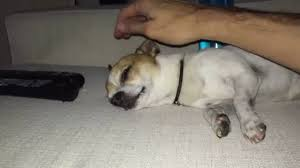chihuahua: (106, 40, 274, 141)
